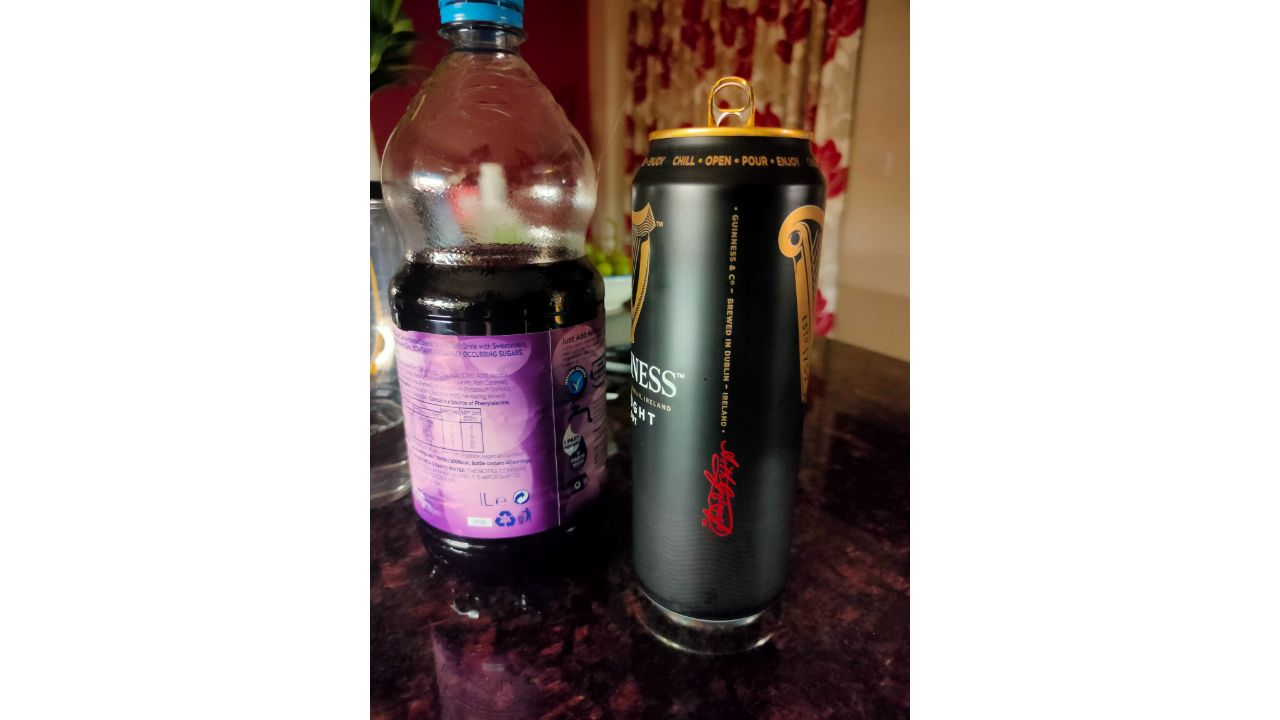Can: (631, 72, 825, 647)
